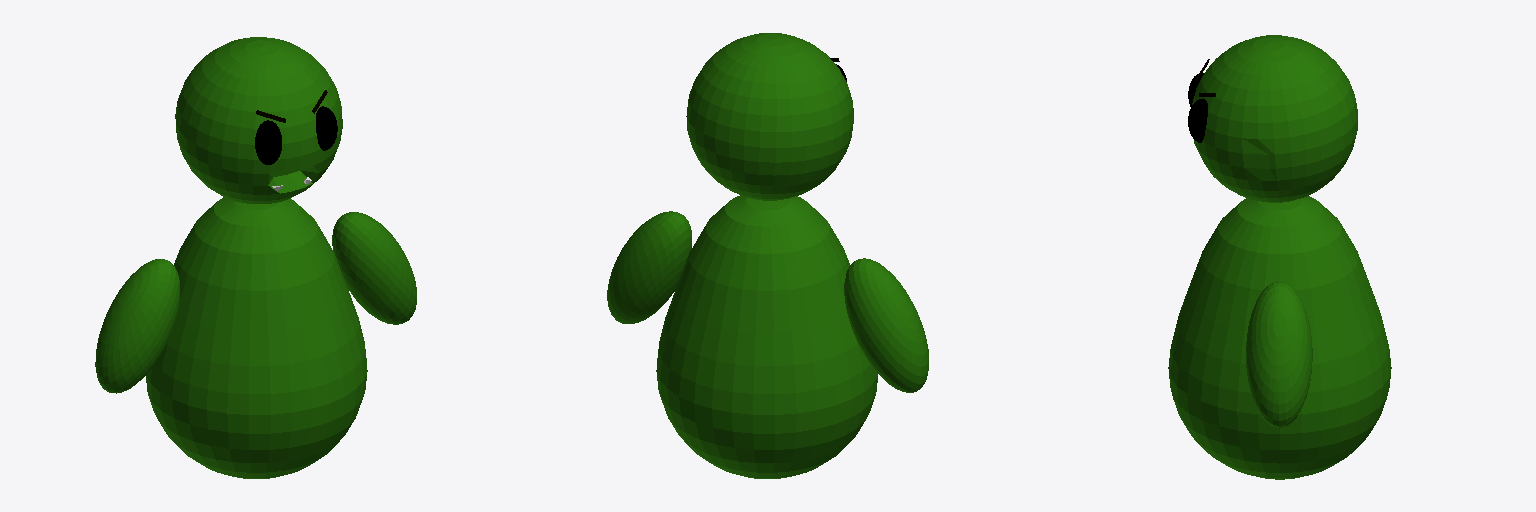
File: unfinishedTroopOrc.obj
The picture shows the model from 3 angles: view 1: azimuth 30°, elevation 25°; view 2: azimuth 150°, elevation 25°; view 3: azimuth 270°, elevation 25°; orthographic projection.
Visible parts, largest first — view 1: Sphere001, Sphere002, Sphere003, Sphere004, Sphere005, Sphere006; view 2: Sphere001, Sphere002, Sphere003, Sphere004; view 3: Sphere001, Sphere002, Sphere004, Sphere006.
Boxes of the visible parts, x1,y1,x2,y2 form: Sphere001: [146, 197, 367, 478]; Sphere002: [175, 37, 342, 203]; Sphere003: [95, 259, 179, 393]; Sphere004: [332, 212, 416, 324]; Sphere005: [255, 120, 281, 164]; Sphere006: [316, 106, 337, 150]; Sphere001: [656, 195, 877, 478]; Sphere002: [686, 33, 853, 200]; Sphere003: [844, 258, 928, 392]; Sphere004: [607, 211, 691, 323]; Sphere001: [1168, 196, 1391, 479]; Sphere002: [1192, 35, 1357, 202]; Sphere004: [1246, 282, 1312, 427]; Sphere006: [1188, 99, 1207, 142].
Bounding box in the file's own units: 32.23 × 41.68 × 19.77.